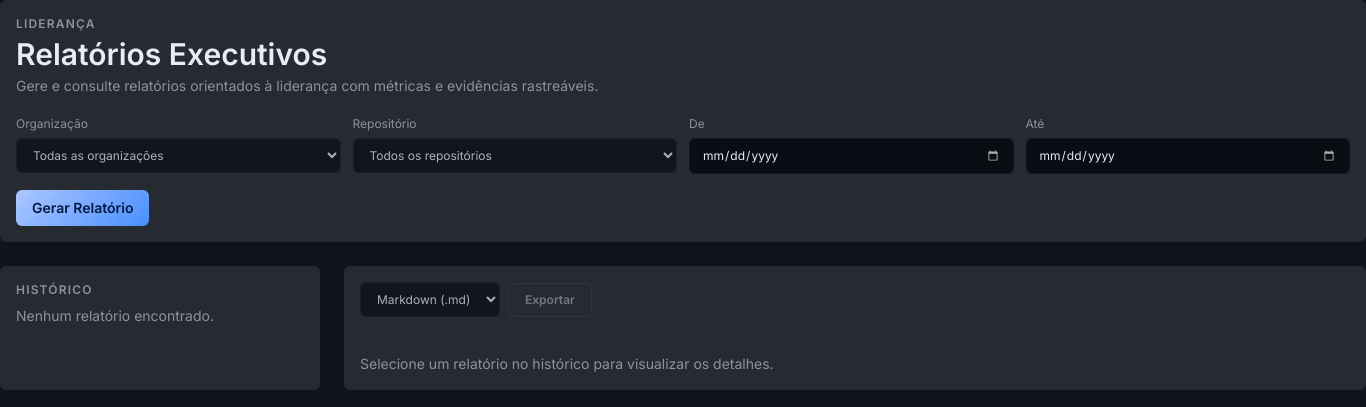
Scenario: ReportsPage › re-enables generate button when job succeeds without reportId
Click the button "Gerar Relatório" at (83, 208), box [16, 190, 149, 226]
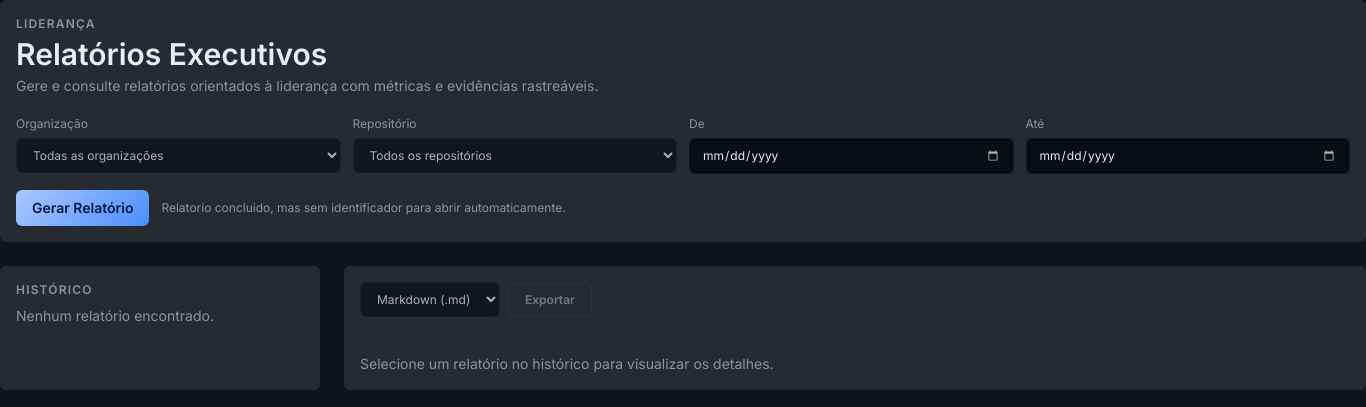
expect the text "Relatorio concluido, mas sem identificador para abrir automaticamente." is shown: met, box [161, 200, 566, 216]
